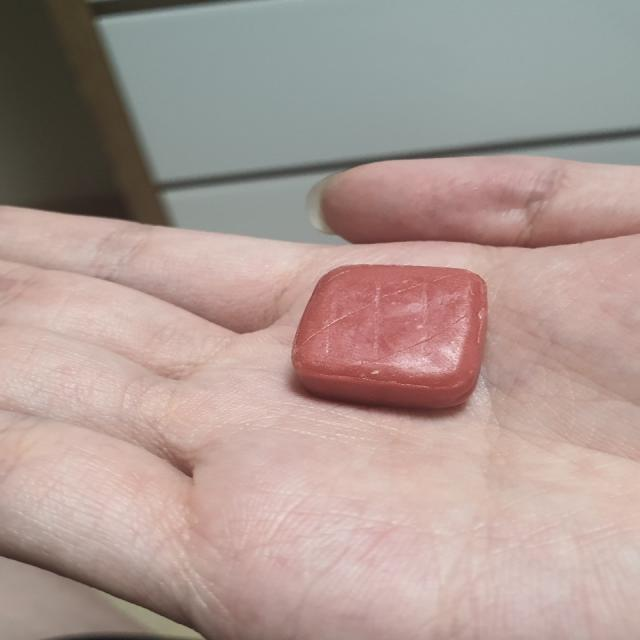pill: (281, 261, 506, 405)
